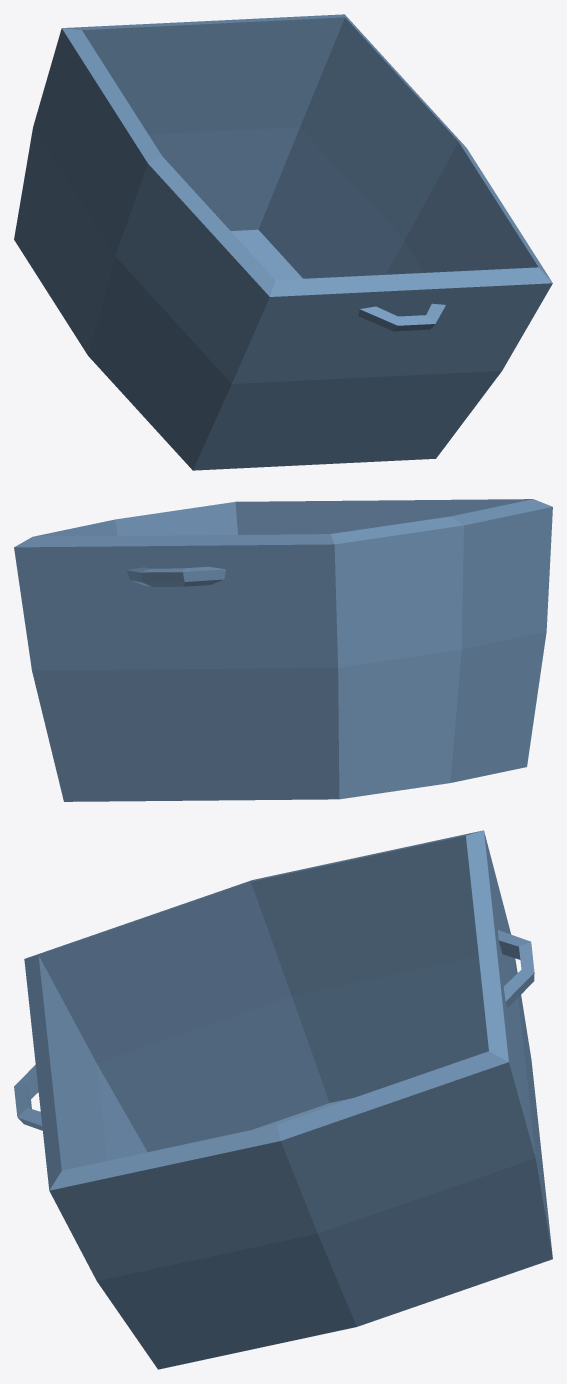
Rendered from bin.fbx.
The picture shows the model from 3 angles, top to bottom: view 1: azimuth 30°, elevation 25°; view 2: azimuth 150°, elevation 25°; view 3: azimuth 270°, elevation 25°; orthographic projection. The views are drawn at different scales.
Parts seen in each view (by area): view 1: bin, handle1; view 2: bin, handle; view 3: bin, handle, handle1.
Boxes of the visible parts, x1,y1,x2,y2 form: bin: (14,14,552,470); handle1: (358,303,445,331); bin: (14,499,552,801); handle: (127,566,225,586); bin: (24,830,552,1369); handle: (498,930,534,1007); handle1: (14,1065,42,1130).
Size of the model in its own units: 2.9 by 2.95 by 3.45.
